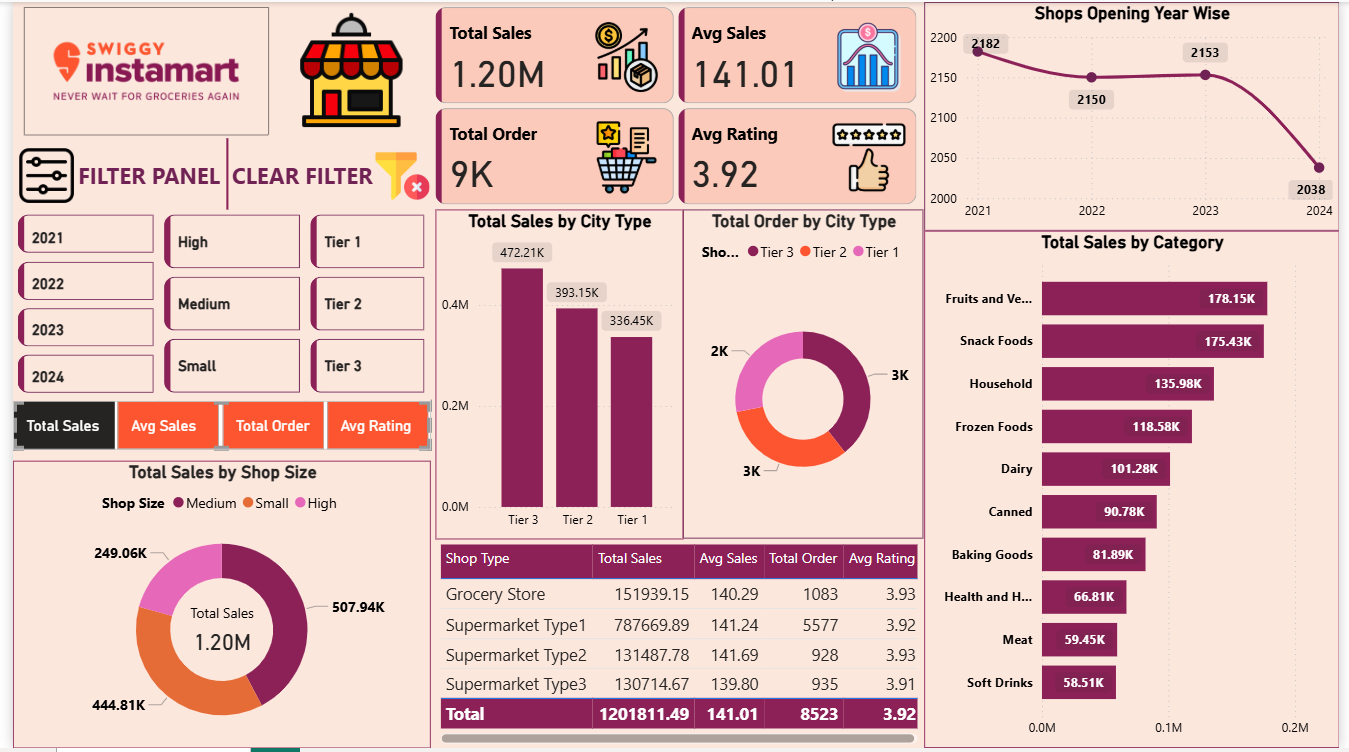

This screenshot's page, from the dashboard's own definition file:
{"tool":"powerbi","page":{"name":"Instamart Dashboard","canvas":[1280,720],"ordinal":0},"visuals":[{"type":"image","box":[0,0,258.2,133.9],"z":0},{"type":"cardVisual","fields":{"Data":["Grocery Shop.Total Sales","Grocery Shop.Avg Sales","Grocery Shop.Total Order","Grocery Shop.Avg Rating"]},"box":[403.5,0,475.7,200.5],"z":1000},{"type":"advancedSlicerVisual","fields":{"Values":["Metric.Metric"]},"box":[0,384.9,403,47.1],"z":2000},{"type":"donutChart","fields":{"Y":["Grocery Shop.Total Sales"],"Category":["Grocery Shop.Shop Size"]},"box":[0,442.7,403.5,277.6],"z":3000},{"type":"cardVisual","fields":{"Data":["Grocery Shop.Total Sales"]},"box":[150.4,529.5,102.7,150.4],"z":4000},{"type":"clusteredColumnChart","title":"Total Sales by City Type","fields":{"Category":["Grocery Shop.Shop City Type"],"Y":["Grocery Shop.Total Sales"]},"box":[407.8,200.3,238.9,318.5],"z":5000},{"type":"donutChart","title":"Total Order by City Type","fields":{"Category":["Grocery Shop.Shop City Type"],"Y":["Grocery Shop.Total Order"]},"box":[646.9,200.5,232.3,317.9],"z":6000},{"type":"tableEx","fields":{"Values":["Grocery Shop.Shop Type","Grocery Shop.Total Sales","Grocery Shop.Avg Sales","Grocery Shop.Total Order","Grocery Shop.Avg Rating"]},"box":[406.6,518.5,471.7,201.5],"z":7000},{"type":"lineChart","title":"Shops Opening Year Wise","fields":{"Y":["Grocery Shop.Total Order"],"Category":["Grocery Shop.Shop Opening Year"]},"box":[879.5,0,400.5,220.8],"z":7001},{"type":"clusteredBarChart","fields":{"Category":["Grocery Shop.Category"],"Y":["Grocery Shop.Total Sales"]},"box":[879.5,220.8,400.5,499.5],"z":7002},{"type":"advancedSlicerVisual","fields":{"Values":["Grocery Shop.Shop Opening Year"]},"box":[0,200.3,141.2,184.6],"z":7003},{"type":"advancedSlicerVisual","fields":{"Values":["Grocery Shop.Shop Size"]},"box":[141.2,200.3,141.2,184.6],"z":7004},{"type":"advancedSlicerVisual","fields":{"Values":["Grocery Shop.Shop City Type"]},"box":[282.3,200.3,120.6,184.6],"z":7005},{"type":"image","box":[1.2,136.3,62.7,62.7],"z":7006},{"type":"textbox","box":[57.9,147.2,147.2,47.1],"z":7007},{"type":"textbox","box":[206.3,147.2,147.2,47.1],"z":7008},{"type":"shape","box":[56.7,131.5,300.4,68.8],"z":7009},{"type":"image","box":[345,133.9,61.5,68.8],"z":7010},{"type":"image","box":[259.4,0,133.9,131.5],"z":7011}]}

Visuals, with their boxes in screenshot pixels (x1, y1, x2, y2), scaled from the page's 1280x720 canvas onto the 1349x752 screenshot:
image: rect(0, 0, 272, 140)
cardVisual - Grocery Shop.Total Sales x Grocery Shop.Avg Sales: rect(425, 0, 927, 209)
advancedSlicerVisual - Metric.Metric: rect(0, 402, 425, 451)
donutChart - Grocery Shop.Total Sales x Grocery Shop.Shop Size: rect(0, 462, 425, 751)
cardVisual - Grocery Shop.Total Sales: rect(159, 553, 267, 710)
"Total Sales by City Type" clusteredColumnChart: rect(430, 209, 682, 542)
"Total Order by City Type" donutChart: rect(682, 209, 927, 541)
tableEx - Grocery Shop.Shop Type x Grocery Shop.Total Sales: rect(429, 542, 926, 751)
"Shops Opening Year Wise" lineChart: rect(927, 0, 1348, 231)
clusteredBarChart - Grocery Shop.Category x Grocery Shop.Total Sales: rect(927, 231, 1348, 751)
advancedSlicerVisual - Grocery Shop.Shop Opening Year: rect(0, 209, 149, 402)
advancedSlicerVisual - Grocery Shop.Shop Size: rect(149, 209, 298, 402)
advancedSlicerVisual - Grocery Shop.Shop City Type: rect(298, 209, 425, 402)
image: rect(1, 142, 67, 208)
textbox: rect(61, 154, 216, 203)
textbox: rect(217, 154, 373, 203)
shape: rect(60, 137, 376, 209)
image: rect(364, 140, 428, 212)
image: rect(273, 0, 415, 137)
